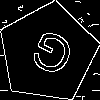G: (22, 28, 78, 86)
